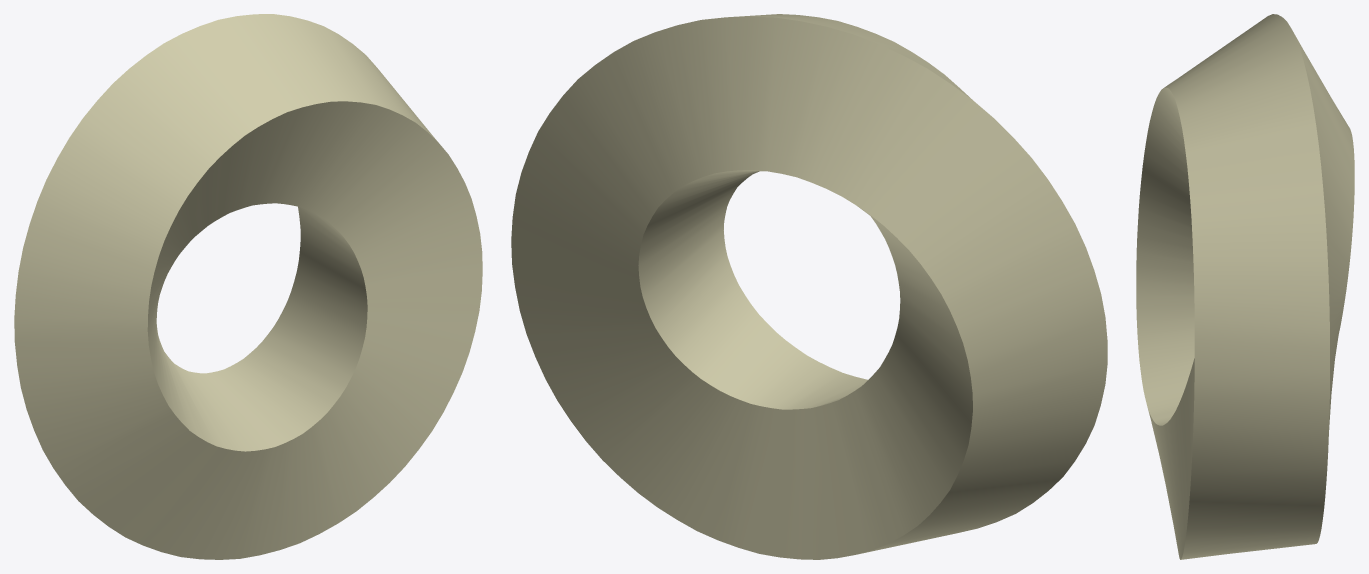
The picture shows the model from 3 angles, left to right: view 1: azimuth 30°, elevation 25°; view 2: azimuth 150°, elevation 25°; view 3: azimuth 270°, elevation 25°; orthographic projection. The views are drawn at different scales.
Visible parts, largest first — view 1: default001fsFF; view 2: default001fsFF; view 3: default001fsFF.
Part boxes in pixels (<box>): default001fsFF: <box>14,14,482,559</box>; default001fsFF: <box>511,14,1107,559</box>; default001fsFF: <box>1136,14,1354,559</box>.
Size of the model in its own units: 2.75 by 2.77 by 1.11.
